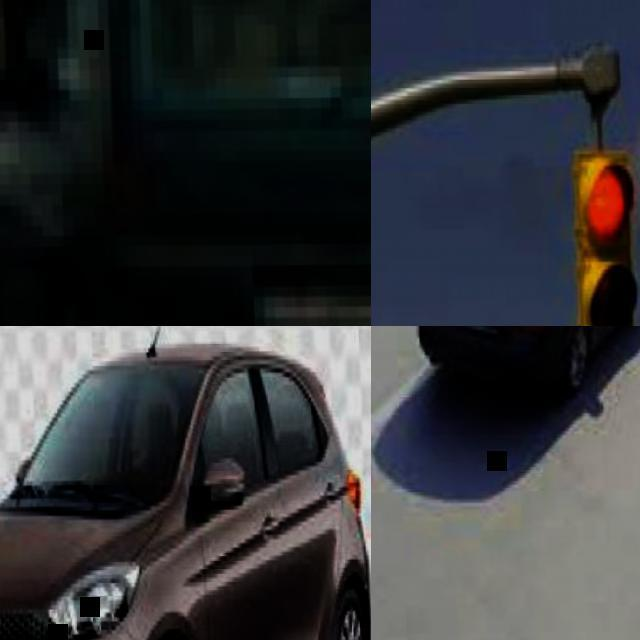car: (0, 339, 362, 638)
